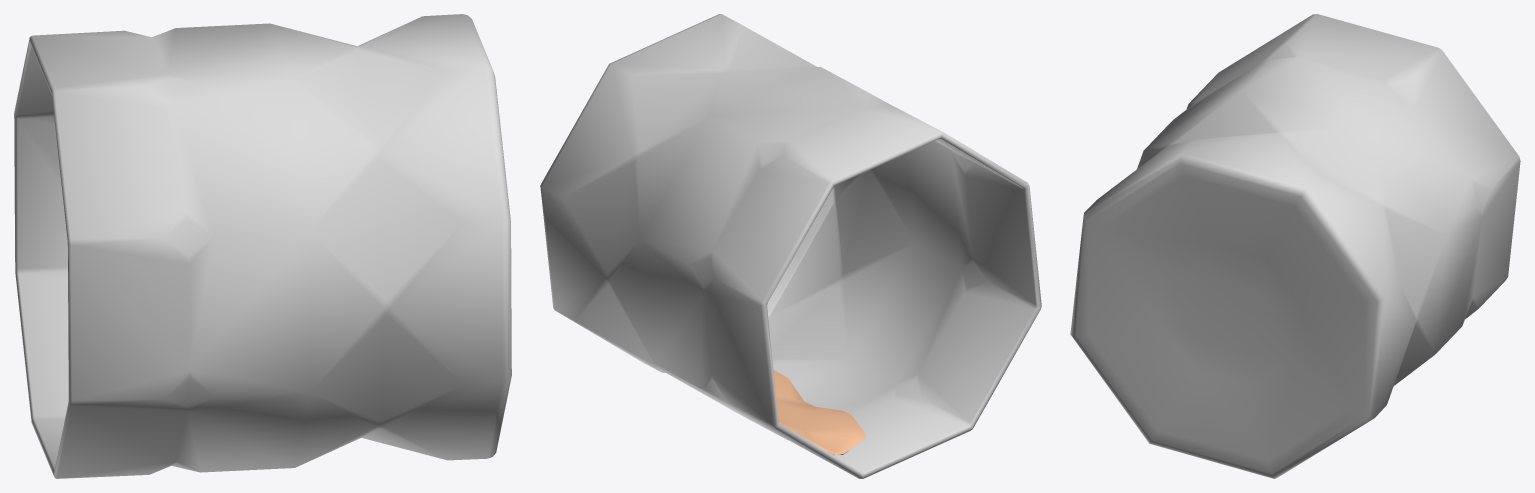
The model's file is COPO_EVIDENCIA_1.fbx.
The picture shows the model from 3 angles, left to right: view 1: azimuth 30°, elevation 25°; view 2: azimuth 150°, elevation 25°; view 3: azimuth 270°, elevation 25°; orthographic projection. The views are drawn at different scales.
Visible parts, largest first — view 1: Copo___Evidencia_01; view 2: Copo___Evidencia_01, Cube; view 3: Copo___Evidencia_01.
Part boxes in pixels (bbox=[...]): Copo___Evidencia_01: bbox=[14, 14, 511, 478]; Copo___Evidencia_01: bbox=[540, 14, 1041, 478]; Cube: bbox=[773, 370, 866, 455]; Copo___Evidencia_01: bbox=[1070, 14, 1520, 478].
Bounding box in the file's own units: 12.02 × 9.05 × 11.77.
